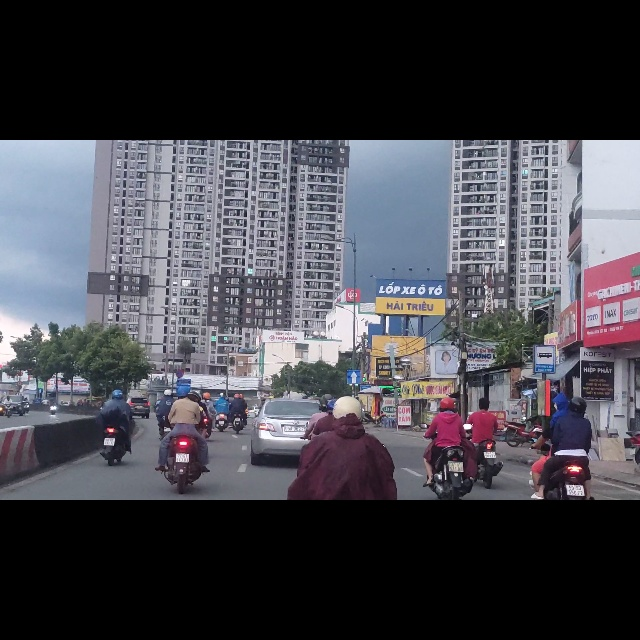bien_chi_dan: (534, 364, 556, 414), (346, 408, 361, 434)
